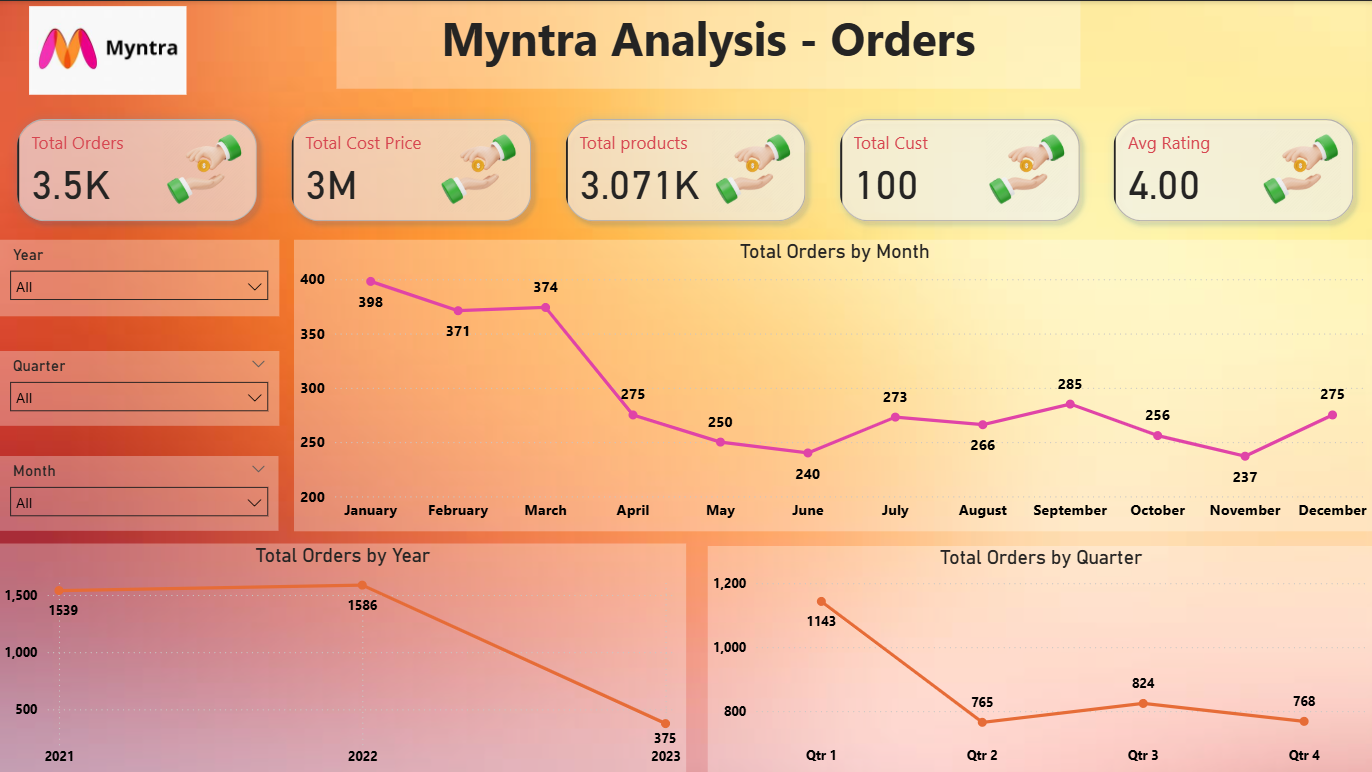

What the dashboard file says about the page in this screenshot:
{"tool":"powerbi","page":{"name":"orders","canvas":[1280,720],"ordinal":1},"visuals":[{"type":"cardVisual","fields":{"Data":["Count(fact_orders.Order ID)","Sum(fact_orders.Original Price)","Count(dim_products (2).Product ID)","Count(dim_customers.Customer ID)","Avg(dim_products (2).Ratings)"]},"box":[0,93,1279.1,129.1],"z":0},{"type":"textbox","box":[313.7,0,691.7,81.3],"z":1000},{"type":"image","box":[0,0,202.2,92.6],"z":2000},{"type":"lineChart","title":"Total Orders by Year","fields":{"Category":["fact_orders.Date.Variation.Date Hierarchy.Year"],"Y":["Count(fact_orders.Order ID)"]},"box":[0,504.2,639.2,216.3],"z":3000},{"type":"lineChart","title":"Total Orders by Quarter","fields":{"Category":["fact_orders.Date.Variation.Date Hierarchy.Quarter"],"Y":["Count(fact_orders.Order ID)"]},"box":[659.5,506.5,619.8,213.5],"z":4000},{"type":"lineChart","title":"Total Orders by Month","fields":{"Category":["fact_orders.Date.Variation.Date Hierarchy.Month"],"Y":["Count(fact_orders.Order ID)"]},"box":[274.4,222.1,1005.8,270.9],"z":5000},{"type":"slicer","fields":{"Values":["fact_orders.Date.Variation.Date Hierarchy.Year"]},"box":[0,222.1,260.5,70.9],"z":6000},{"type":"slicer","fields":{"Values":["fact_orders.Date.Variation.Date Hierarchy.Quarter"]},"box":[0,325.6,260.5,69.8],"z":7000},{"type":"slicer","fields":{"Values":["fact_orders.Date.Variation.Date Hierarchy.Month"]},"box":[0,422.9,260.2,69.9],"z":8000}]}

Visuals, with their boxes in screenshot pixels (x1, y1, x2, y2), scaled from the page's 1280x720 canvas onto the 1372x772 screenshot:
cardVisual - Count(fact_orders.Order ID) x Sum(fact_orders.Original Price): x1=0 y1=100 x2=1371 y2=238
textbox: x1=336 y1=0 x2=1078 y2=87
image: x1=0 y1=0 x2=217 y2=99
"Total Orders by Year" lineChart: x1=0 y1=541 x2=685 y2=771
"Total Orders by Quarter" lineChart: x1=707 y1=543 x2=1371 y2=771
"Total Orders by Month" lineChart: x1=294 y1=238 x2=1371 y2=529
slicer - fact_orders.Date.Variation.Date Hierarchy.Year: x1=0 y1=238 x2=279 y2=314
slicer - fact_orders.Date.Variation.Date Hierarchy.Quarter: x1=0 y1=349 x2=279 y2=424
slicer - fact_orders.Date.Variation.Date Hierarchy.Month: x1=0 y1=453 x2=279 y2=528
